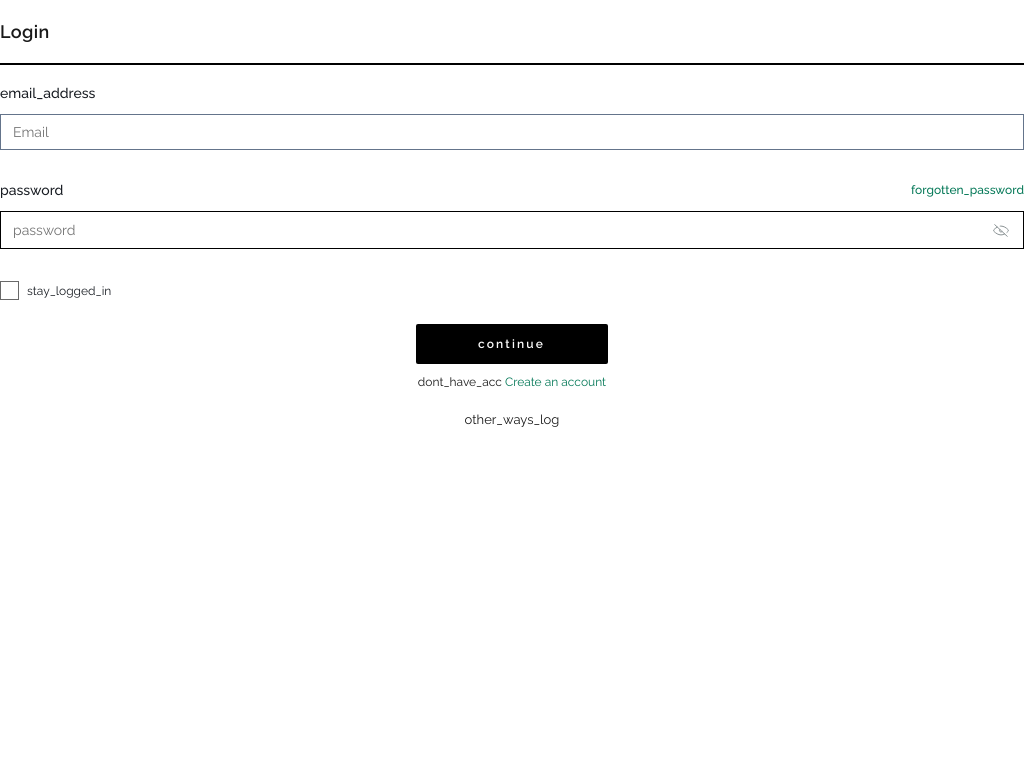
Test: MobLoginForm › closes AccountTypeModal when close button is clicked without navigation
Click the button "Create an account" at [556, 383], box top-left (505, 374), bottom-right (606, 391)
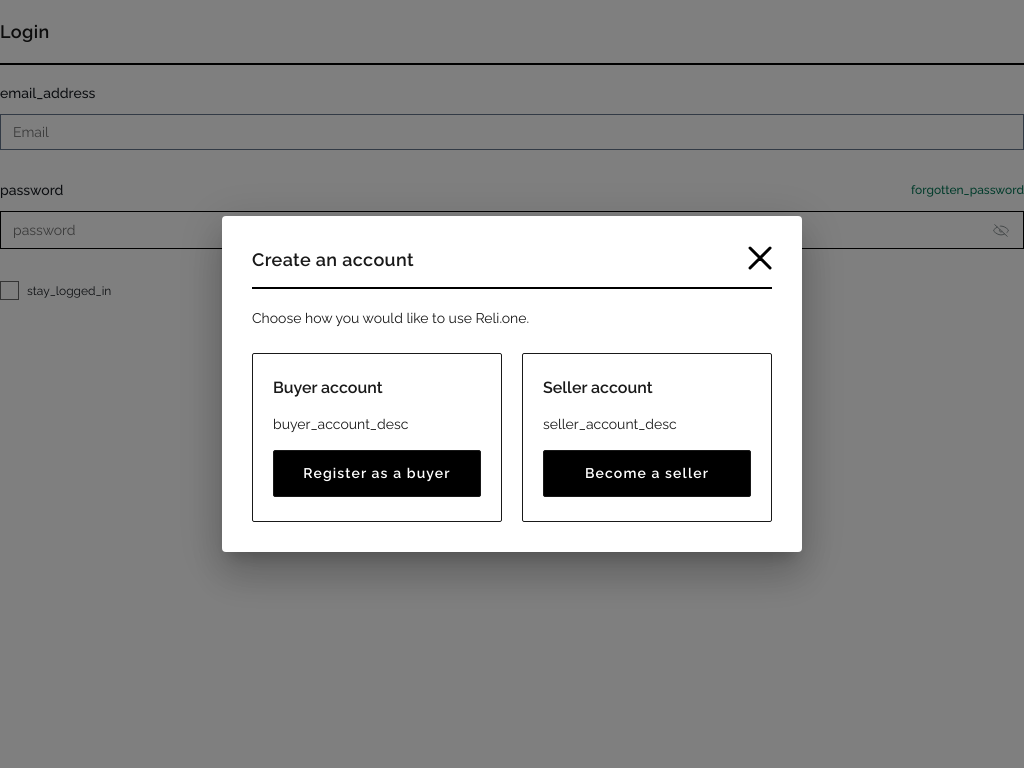
Click the button named "close" at [760, 260], box top-left (748, 246), bottom-right (772, 273)
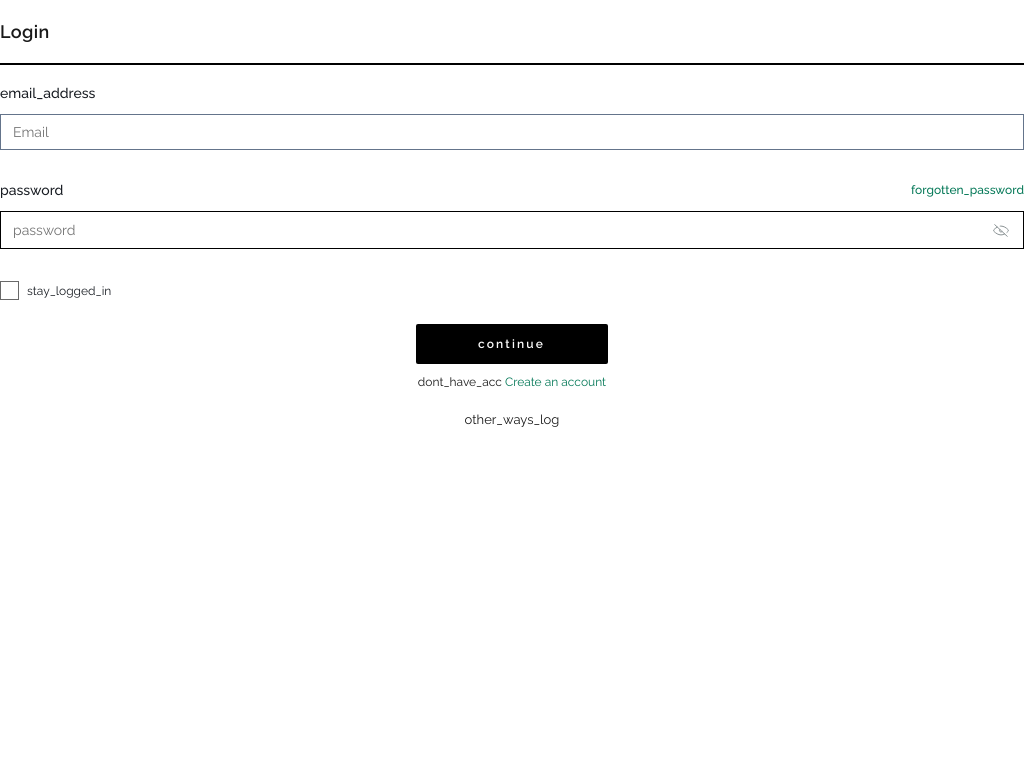
Now the text "Choose how you would like to use Reli.one." is gone
